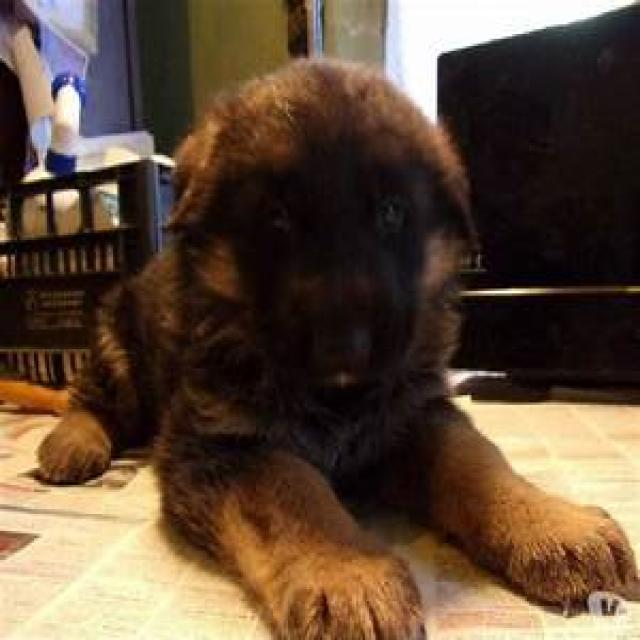dog: (32, 58, 640, 640)
